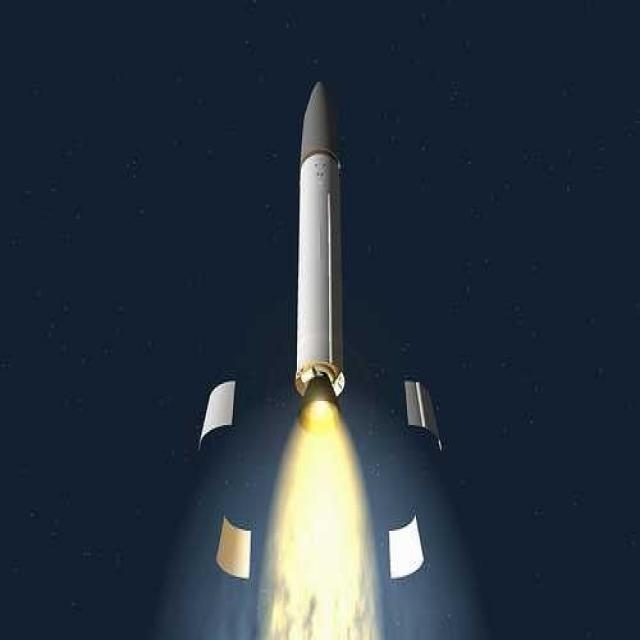missile: (298, 74, 346, 424)
